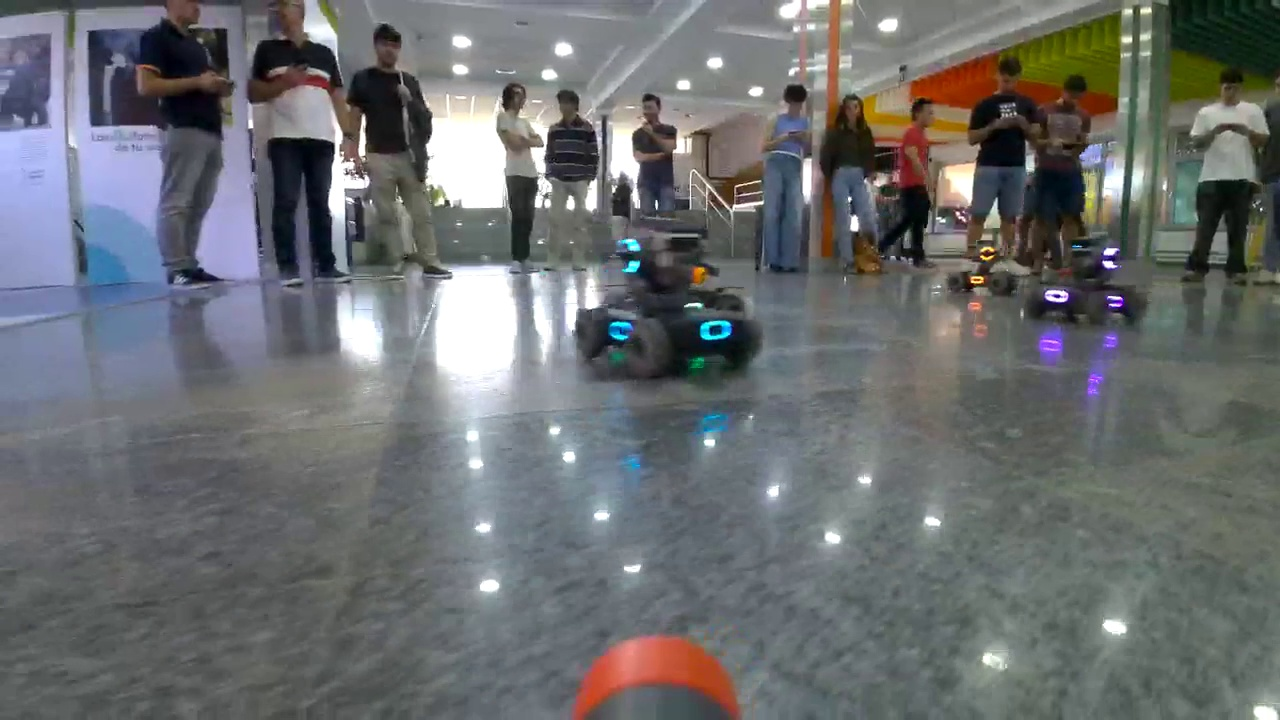robot: (573, 221, 766, 386), (1022, 235, 1149, 322), (944, 238, 1022, 300)
